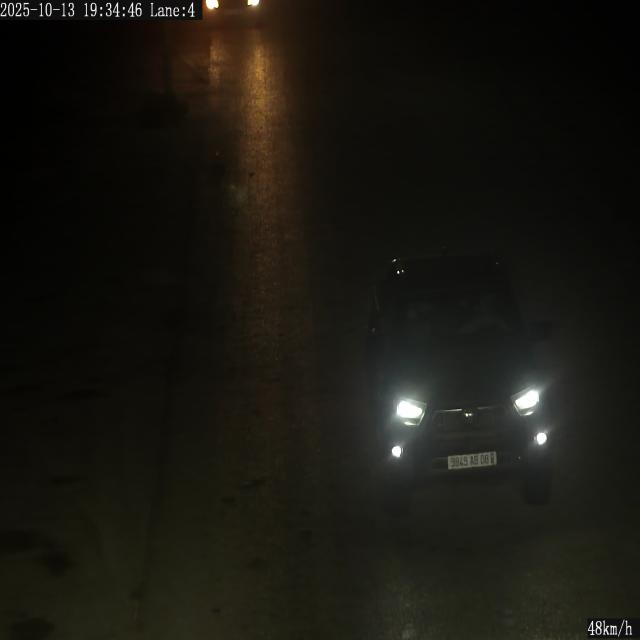BUS: (448, 452, 496, 469)
